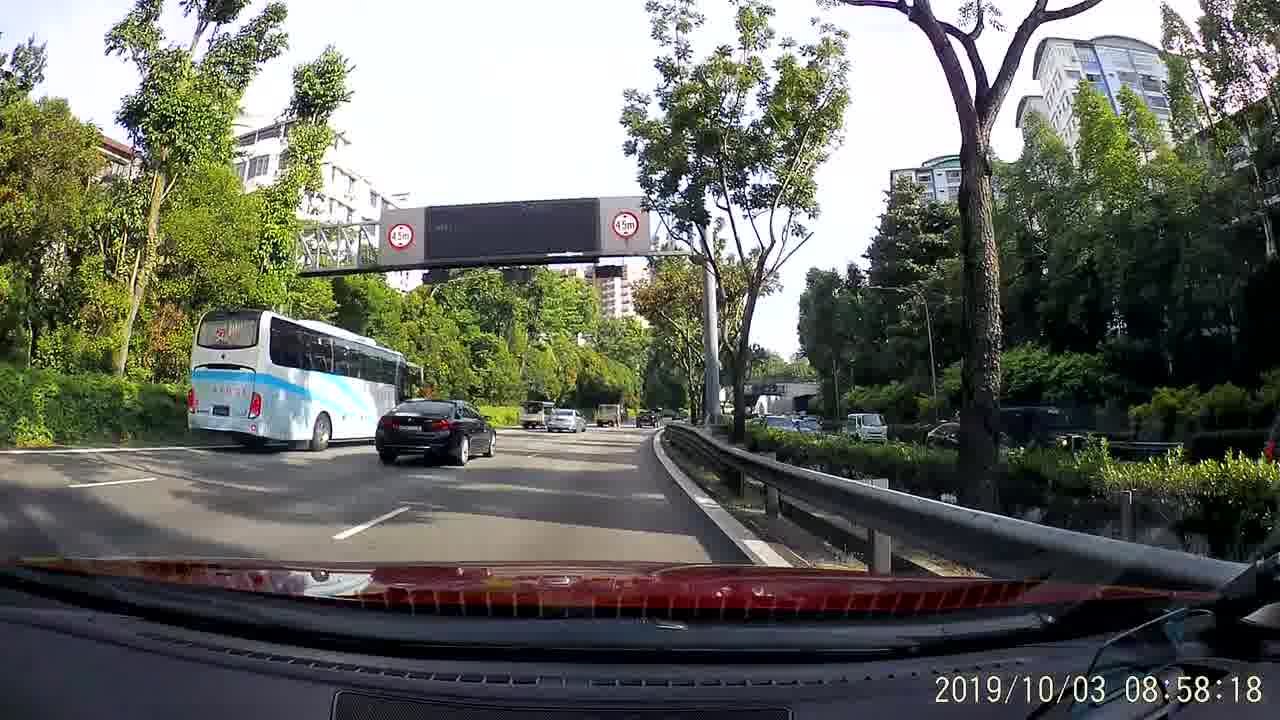bus: (189, 302, 429, 453)
car: (371, 395, 498, 470), (997, 405, 1108, 460), (544, 406, 589, 434), (759, 411, 797, 434), (796, 418, 832, 436), (634, 408, 663, 429)
